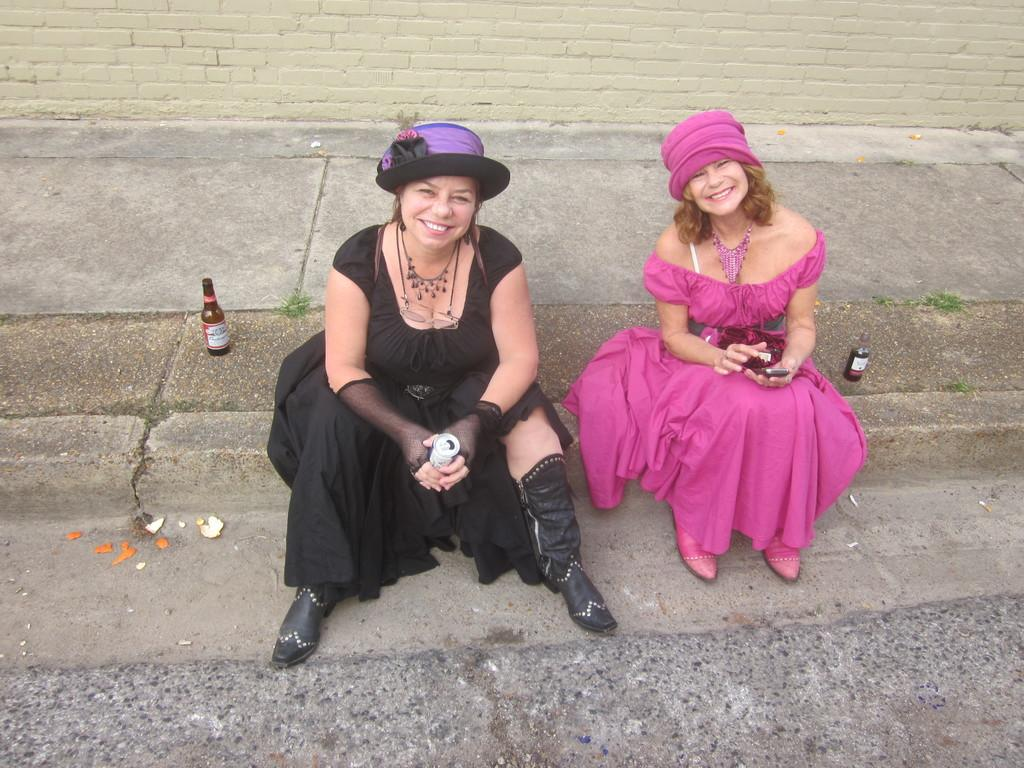Hat: (371, 118, 511, 194), (659, 108, 761, 201)
